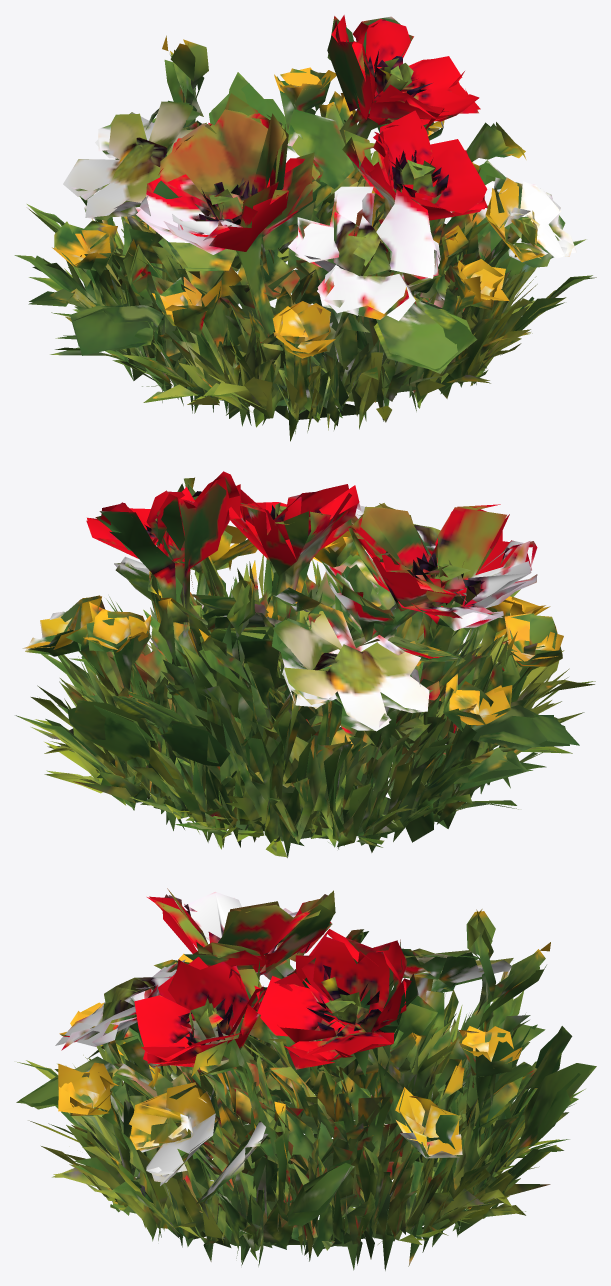
The model's file is flowers.glb.
3 views of the same model, one above another, from view 1: azimuth 30°, elevation 25°; view 2: azimuth 150°, elevation 25°; view 3: azimuth 270°, elevation 25° (orthographic). The views are drawn at different scales.
Parts seen in each view (by area): view 1: Body; view 2: Body; view 3: Body.
Part boxes in pixels (x1,y1,x2,y2): Body: [14, 15, 596, 441]; Body: [15, 471, 595, 857]; Body: [16, 888, 596, 1270].
Bounding box in the file's own units: 1.3 × 0.7455 × 1.29.
Materials: 1 (1 with a texture image).
